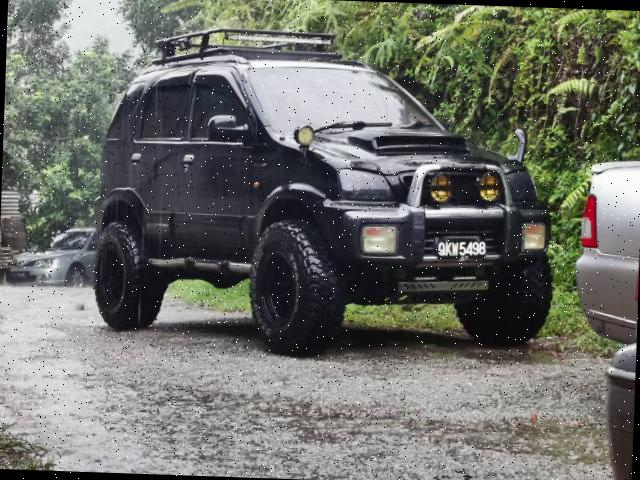License_Plate: (437, 239, 488, 262)
car: (85, 21, 567, 356)
